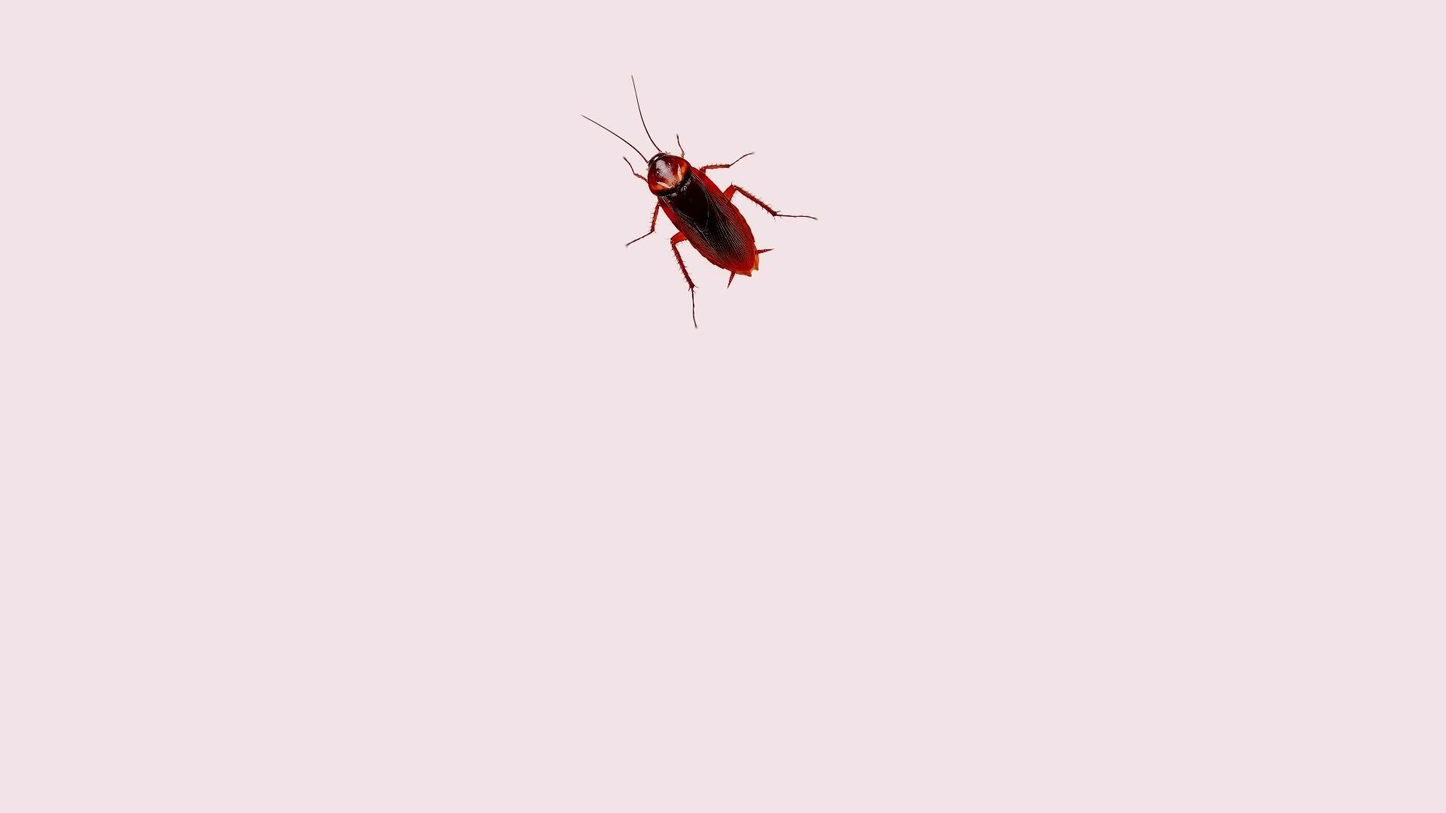cockroach: (558, 76, 809, 340)
